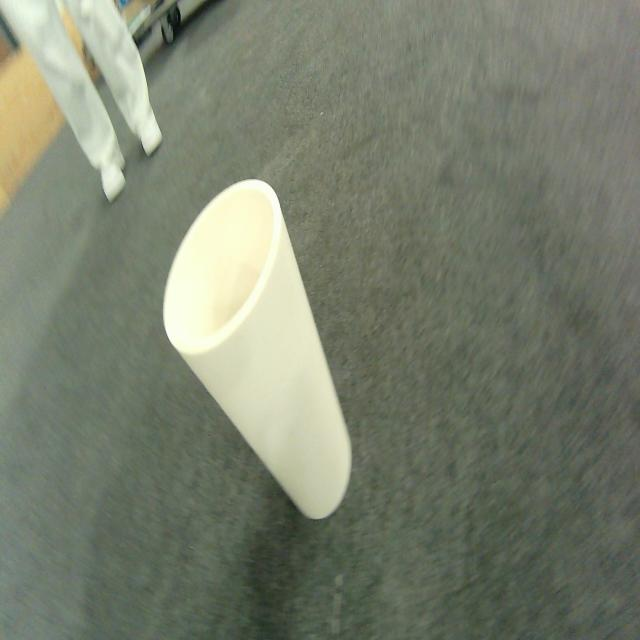coral: (163, 180, 352, 518)
